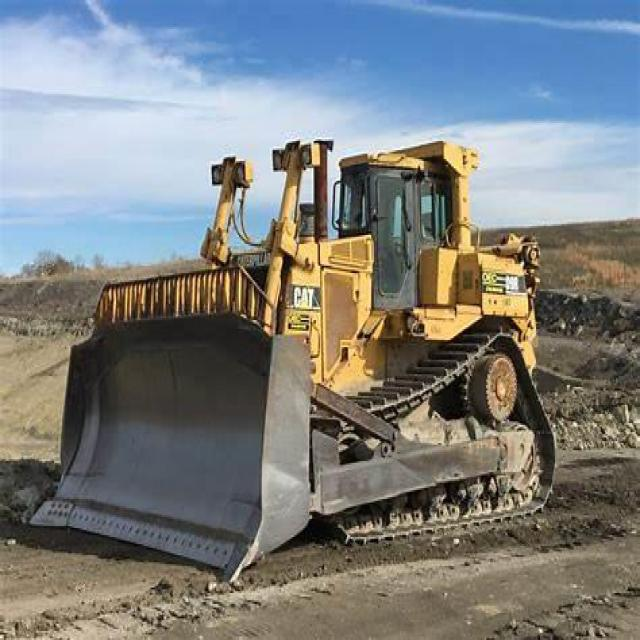Bulldozer: (31, 85, 568, 582)
